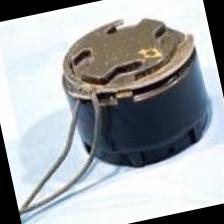M14: (50, 12, 221, 178)
